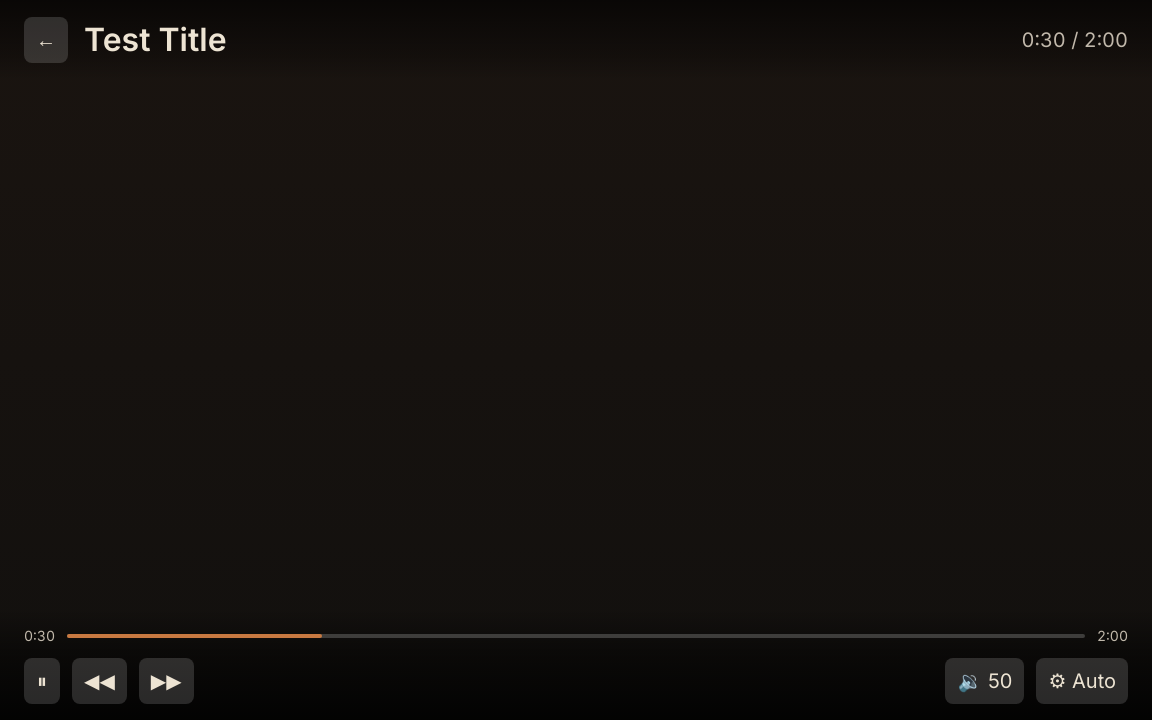
PlayerControls › quality popover selects a level + closes
Click the button with aria-label "quality" at (1082, 681), box [1036, 658, 1128, 704]
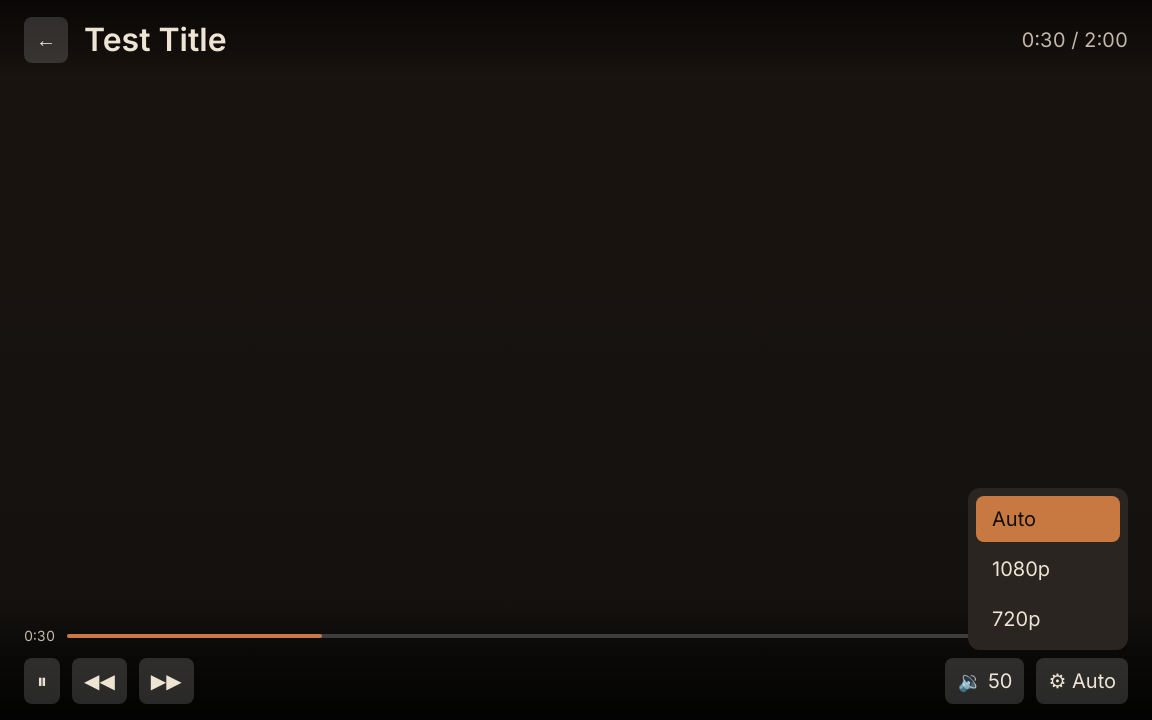
Click the button "720p" at (1048, 619), box [976, 596, 1120, 642]
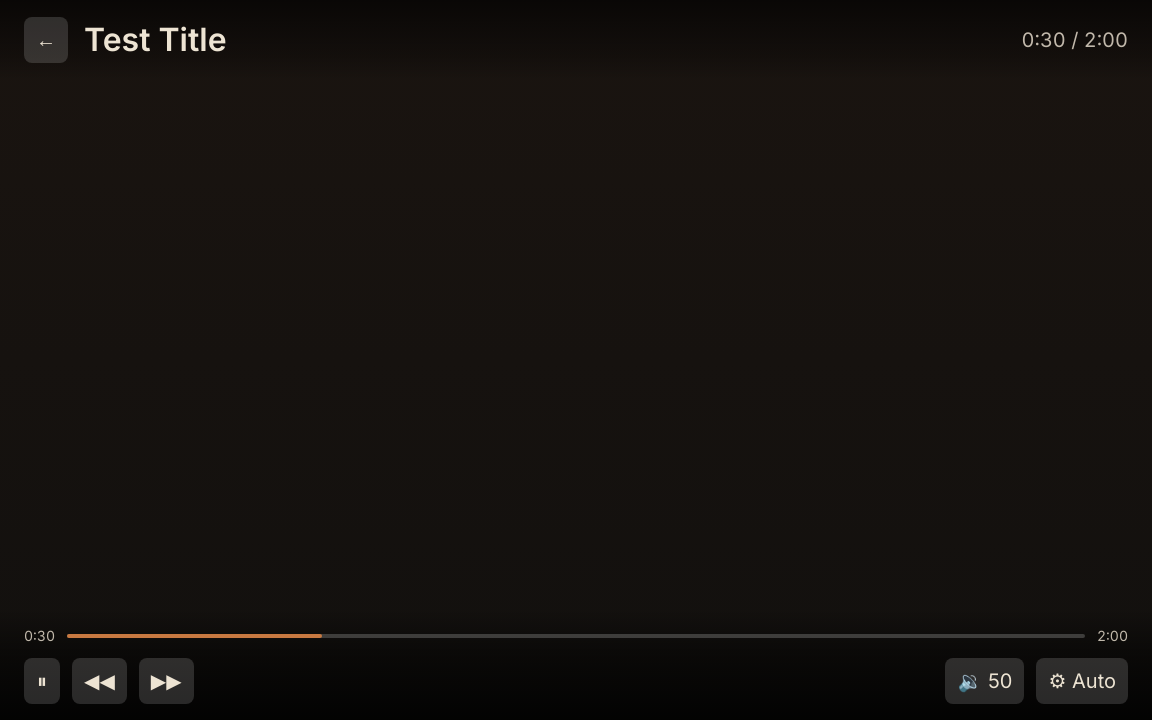
Result: the button "720p" is gone
